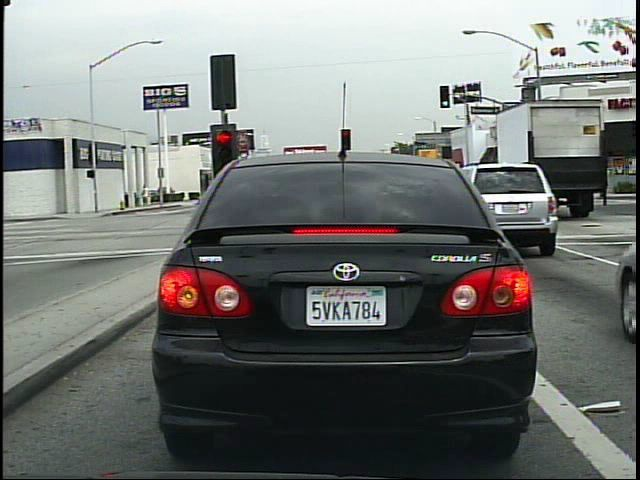person: (517, 169, 531, 202), (142, 182, 153, 211)
